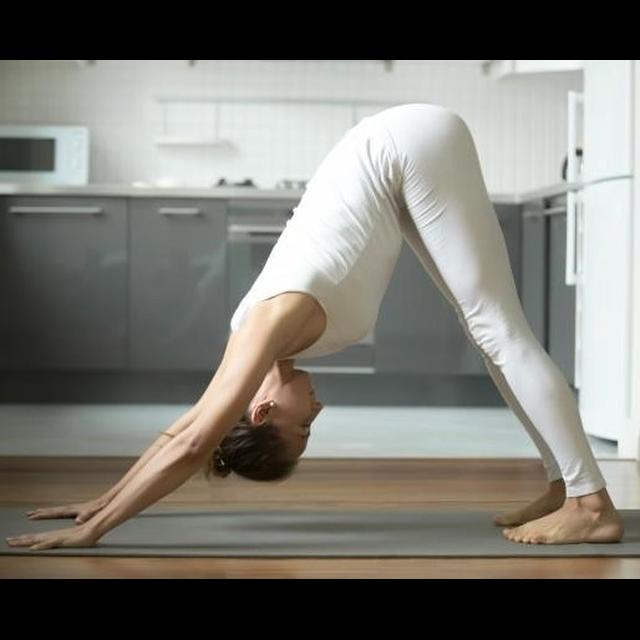Downward-Facing_Dog: (6, 102, 623, 557)
